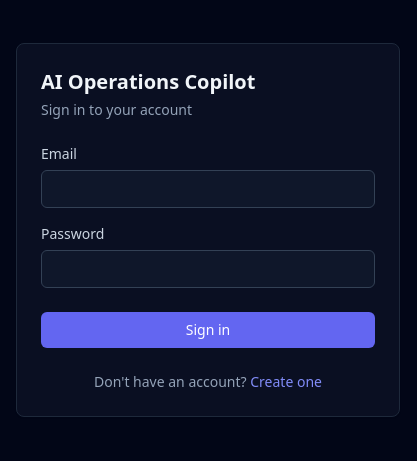
it: LoginPage › shows an error message when login fails, without navigating away
Type "demo@acme.example" into the field labelled "Email". click: coordinates (208, 189)
box: [41,170,375,208]
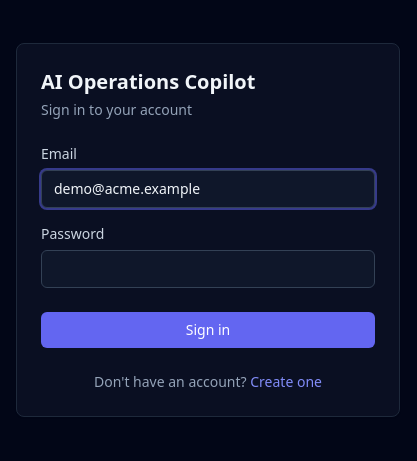
Type "wrong-password" into the password field labelled "Password". click: coordinates (208, 269)
box: [41,250,375,288]
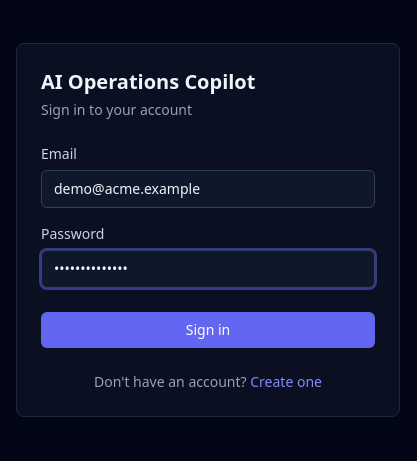
Click the button "Sign in". click: coordinates (208, 330)
box: [41,312,375,348]
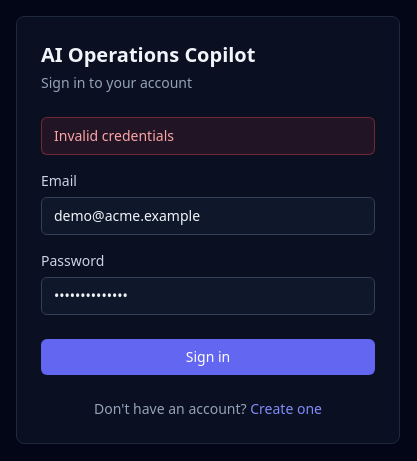
Now the text "Invalid credentials" is shown, box [41,117,375,155]
